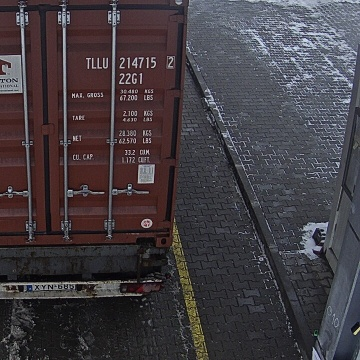serial_id: (85, 57, 173, 68)
